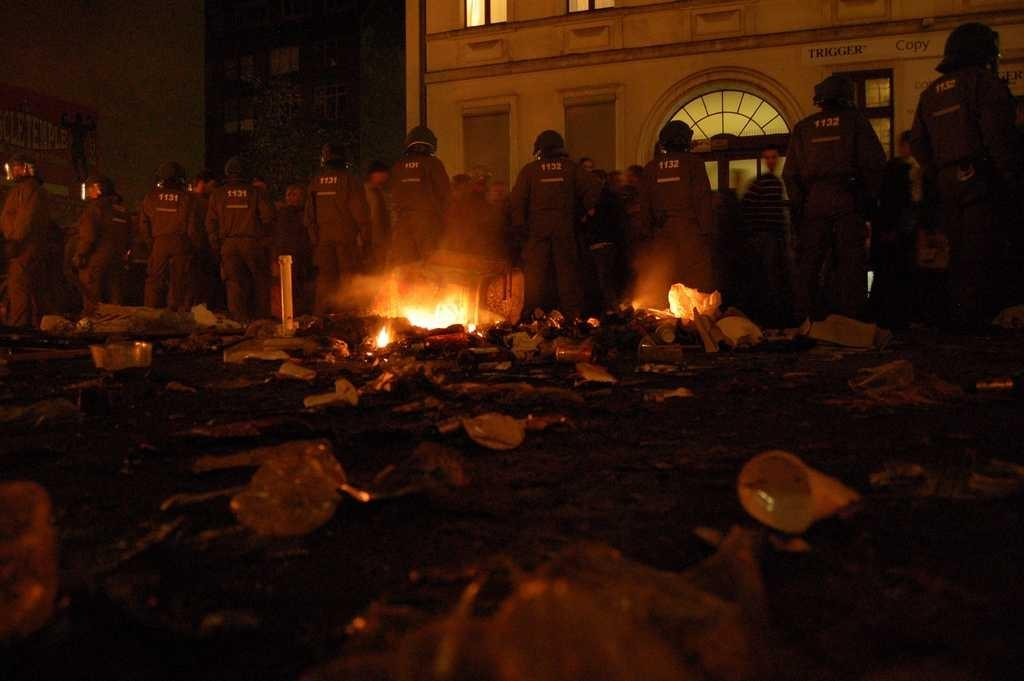fire: (397, 295, 478, 322)
